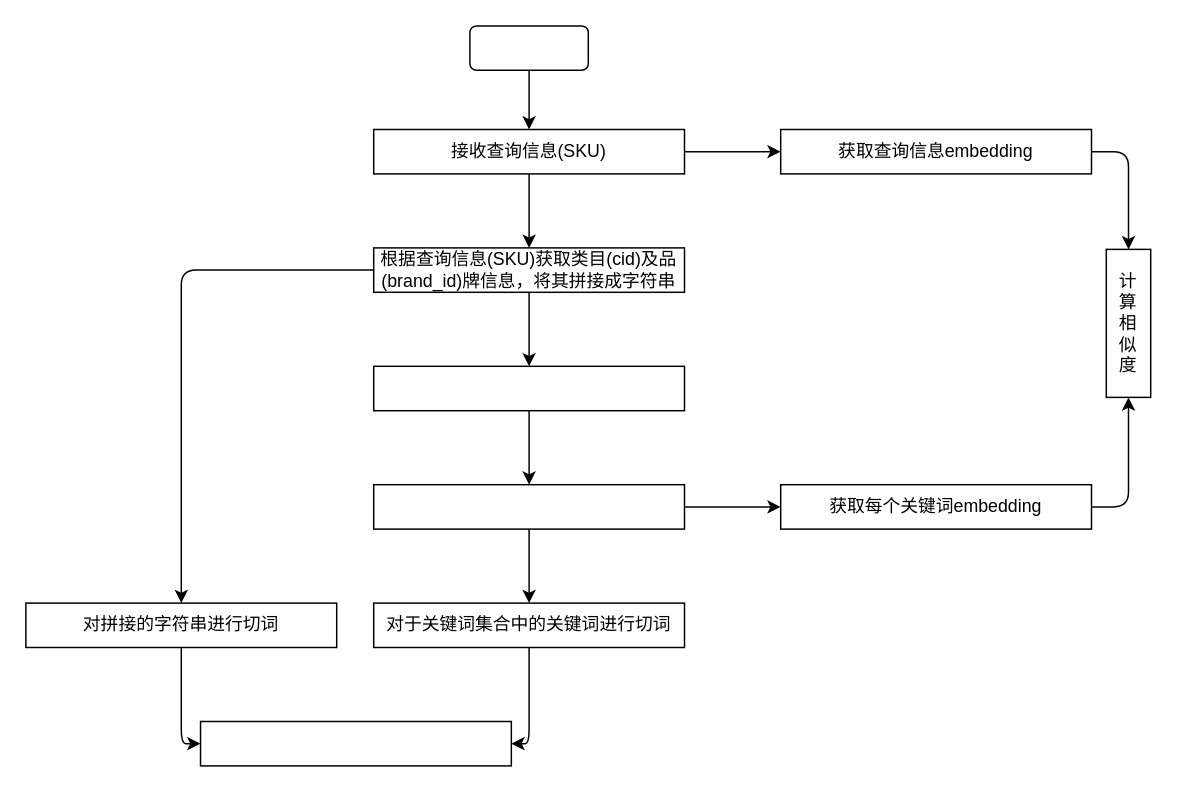
Image size: 1177x792. Some labels were removed from this diagram. The box of each missing label's shape, as (x1, y1, x2, y2) in pixels:
title反包含: (199, 720, 511, 766)
对于关键词集合中的关键词，获取其pv，ctr，cvr等信息: (372, 483, 684, 529)
开始: (468, 24, 588, 70)
检索关键词表，根据新字符串获取与查询信息(SKU)相关的关键词集合: (372, 365, 684, 411)
